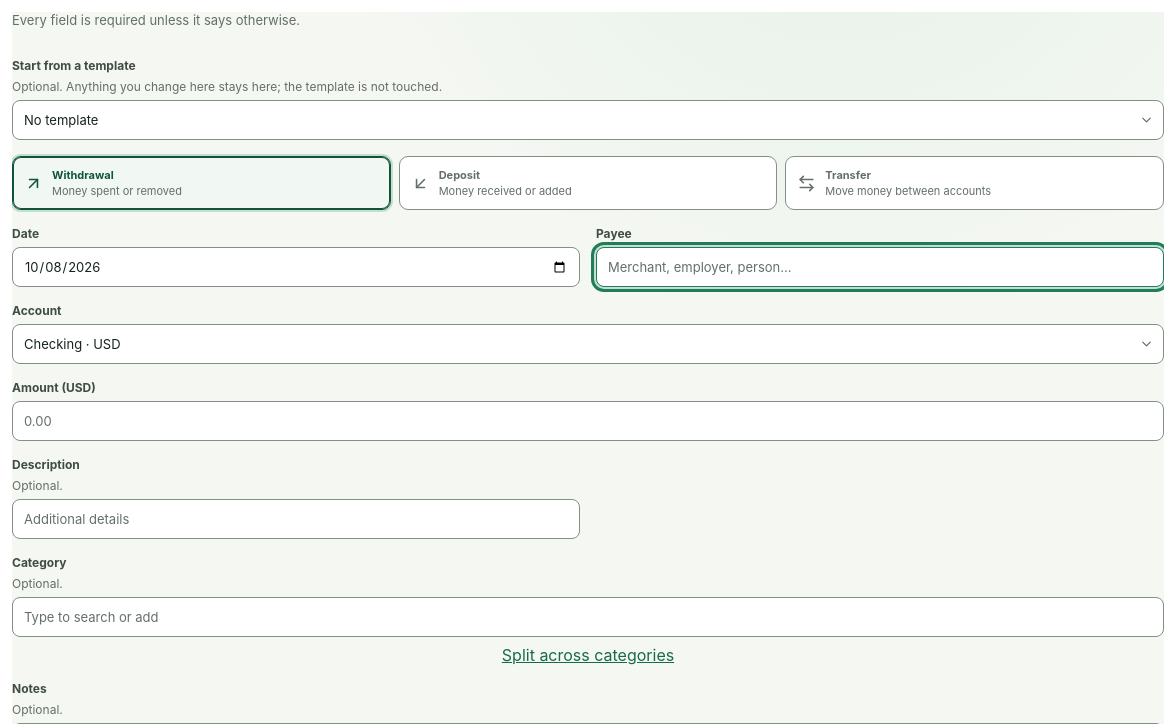
it: starting a transaction from a template › fills the form in from the one chosen
Select "Rent" in the dropdown labelled "Start from a template" at (588, 120), box [12,100,1164,140]
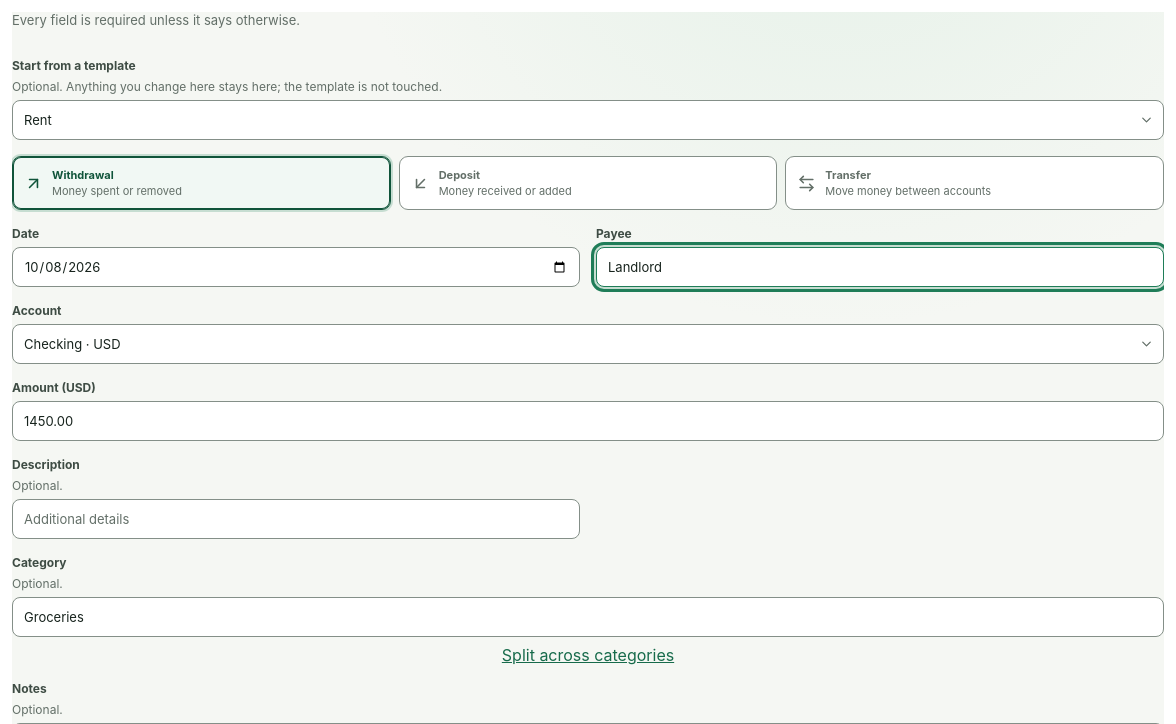
Check: the field labelled "Payee" holds "Landlord", box [596,247,1164,287]
Check: the field labelled "Amount (USD)" holds "1450.00", box [12,401,1164,441]
Check: the field named "Category" holds "Groceries", box [12,597,1164,637]
